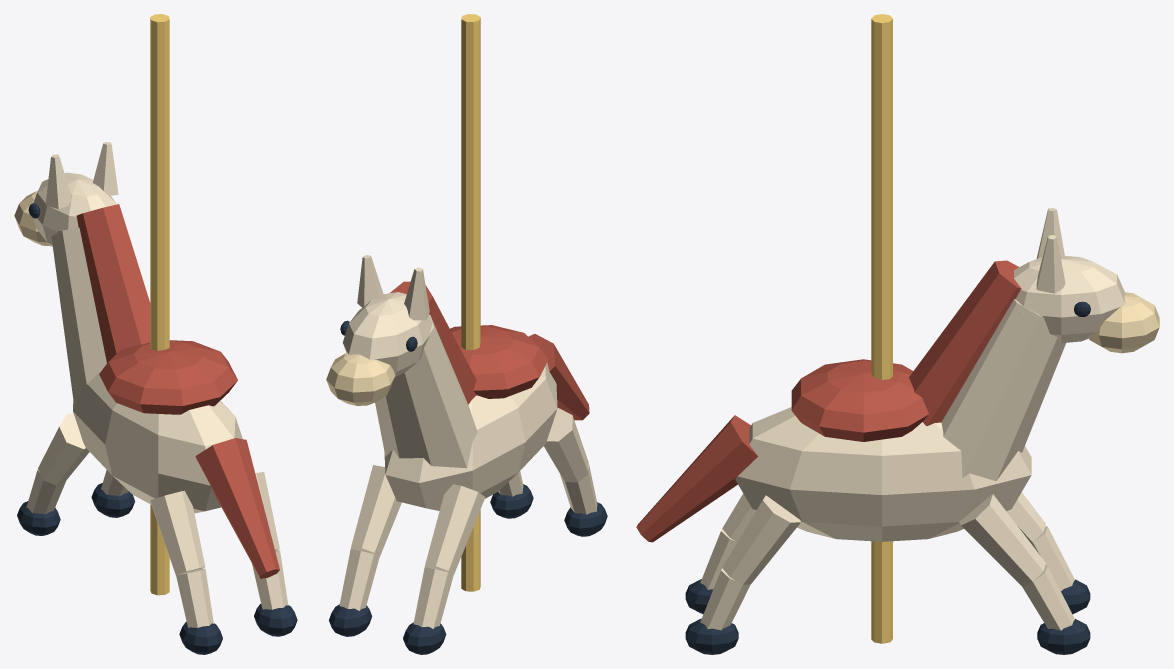
Rendered from horse_brick.glb.
The picture shows the model from 3 angles, left to right: view 1: azimuth 30°, elevation 25°; view 2: azimuth 150°, elevation 25°; view 3: azimuth 270°, elevation 25°; orthographic projection. The views are drawn at different scales.
Parts seen in each view (by area): view 1: horse_brick; view 2: horse_brick; view 3: horse_brick.
Boxes of the visible parts, x1,y1,x2,y2 form: horse_brick: [14, 14, 297, 654]; horse_brick: [326, 14, 607, 654]; horse_brick: [636, 14, 1159, 654].
Size of the model in its own units: 0.65 by 2.94 by 2.25.
